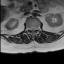CCS_normal: (32, 24, 34, 33)
LFS_normal: (36, 24, 38, 31)
LLS_normal: (34, 24, 36, 32)
RFS_normal: (28, 24, 30, 32)
RLS_normal: (30, 24, 32, 32)
